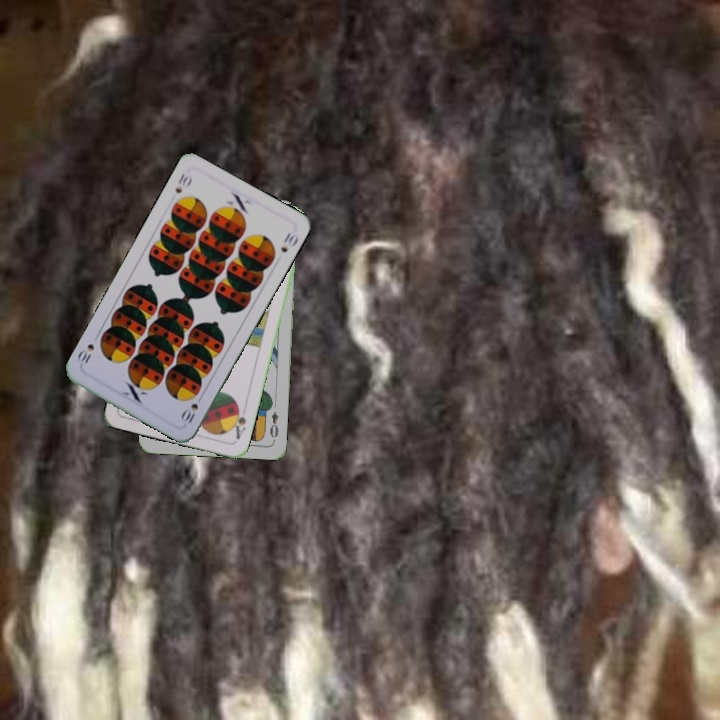EO: (266, 408, 281, 444)
S10: (177, 390, 206, 427), (171, 169, 190, 196)
SA: (228, 401, 249, 442)
